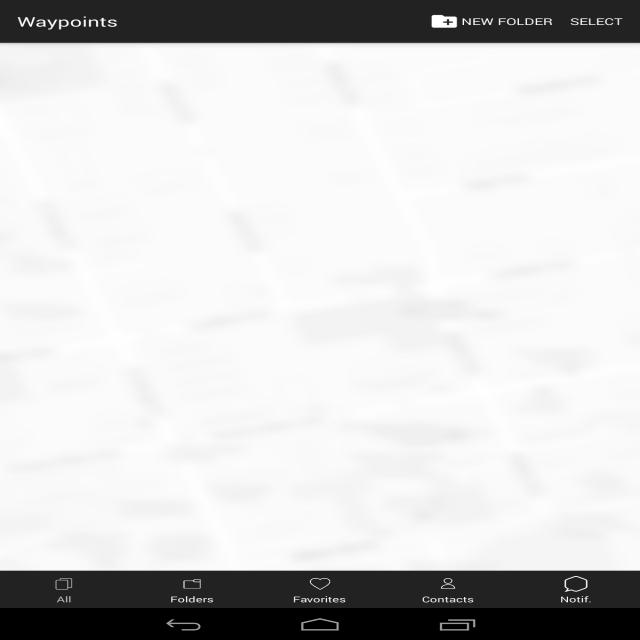ImageView: (517, 574, 635, 594), (11, 578, 117, 590), (139, 578, 245, 590), (267, 578, 373, 590), (395, 578, 501, 590)
TextView: (418, 5, 562, 38), (562, 5, 632, 38), (17, 12, 118, 30), (292, 594, 346, 604), (422, 594, 474, 604), (170, 594, 214, 604), (560, 594, 591, 604), (56, 594, 72, 604)
